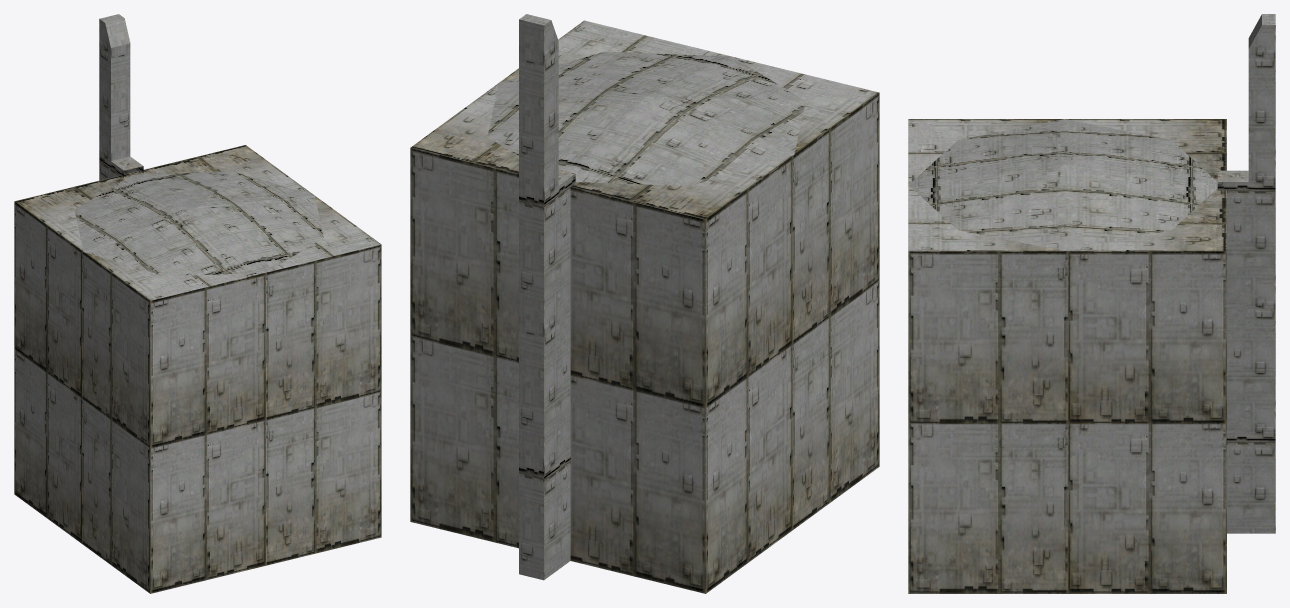
The model's file is ins_all_def_turret_lg_s03_l2.fbx.
3 renders of one model, left to right at view 1: azimuth 30°, elevation 25°; view 2: azimuth 150°, elevation 25°; view 3: azimuth 270°, elevation 25°, orthographic. The views are drawn at different scales.
Visible parts, largest first — view 1: mesh_node; view 2: mesh_node; view 3: mesh_node.
Boxes of the visible parts, x1=… form: mesh_node: x1=14, y1=14, x2=381, y2=593; mesh_node: x1=410, y1=14, x2=879, y2=593; mesh_node: x1=908, y1=14, x2=1275, y2=593.
Bounding box in the file's own units: 2.89 × 5.19 × 3.39.
